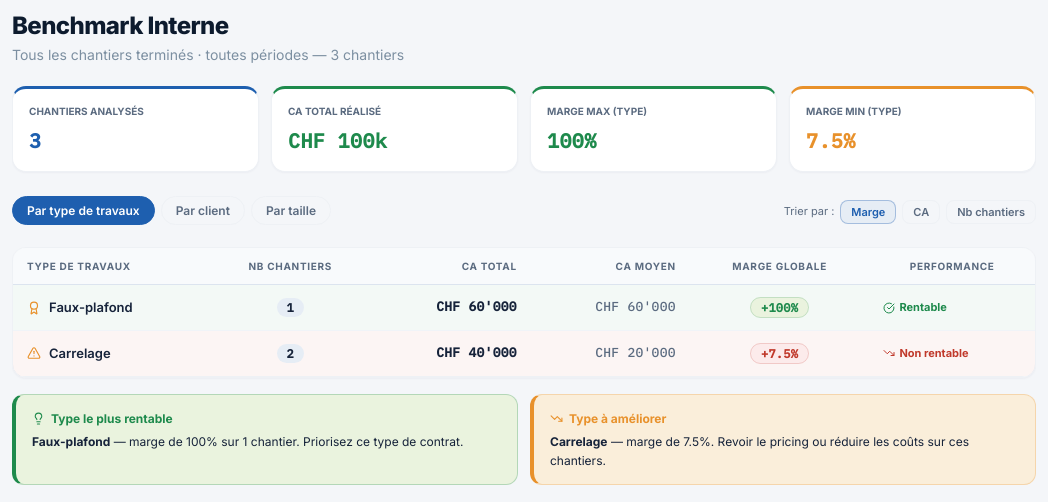
it: FILTRES + TRI — recomposition réelle › trier par « Nb chantiers » réordonne les lignes (Carrelage ×2 passe premier)
Click the button "Nb chantiers" at (991, 212), box [946,200,1036,224]
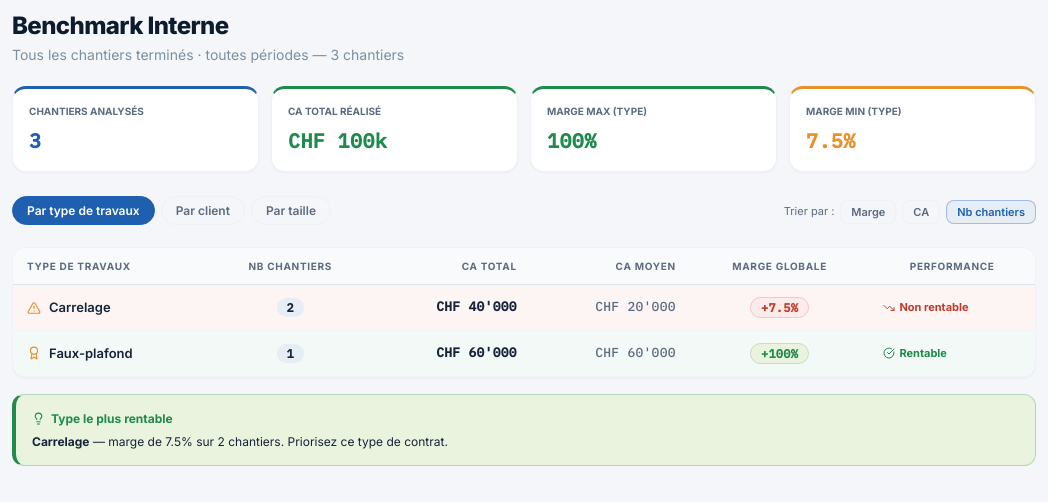
Expected: the row "Carrelage 2 CHF 40'000 CHF 20'000 +7.5% Non rentable" is shown, [13,285,1035,330]
